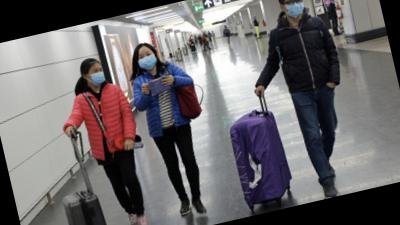with_mask: (136, 49, 160, 73), (86, 65, 107, 88), (224, 26, 228, 29), (199, 34, 202, 37), (190, 38, 192, 40), (199, 35, 201, 37), (212, 31, 214, 33), (208, 31, 209, 33)
without_mask: (255, 17, 258, 20)
